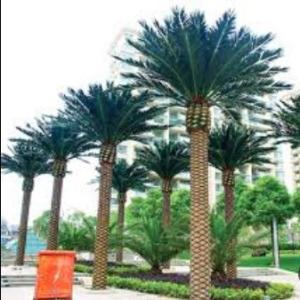palm tree: (108, 4, 293, 299), (46, 80, 176, 289), (12, 115, 99, 250), (206, 121, 276, 278), (0, 138, 51, 266), (89, 157, 150, 263)
